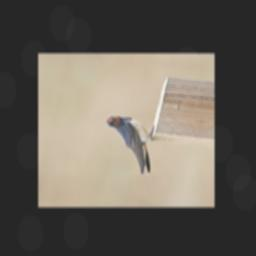Swallow: (90, 114, 171, 193)
